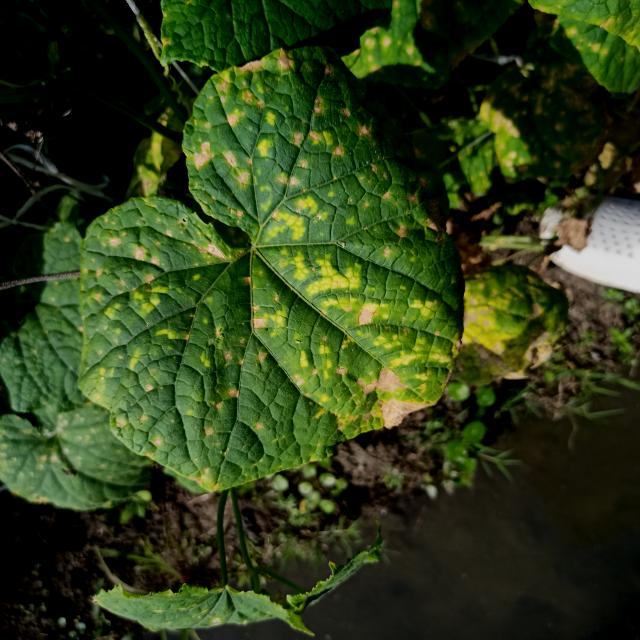disease_cucumber: (92, 51, 456, 465)
